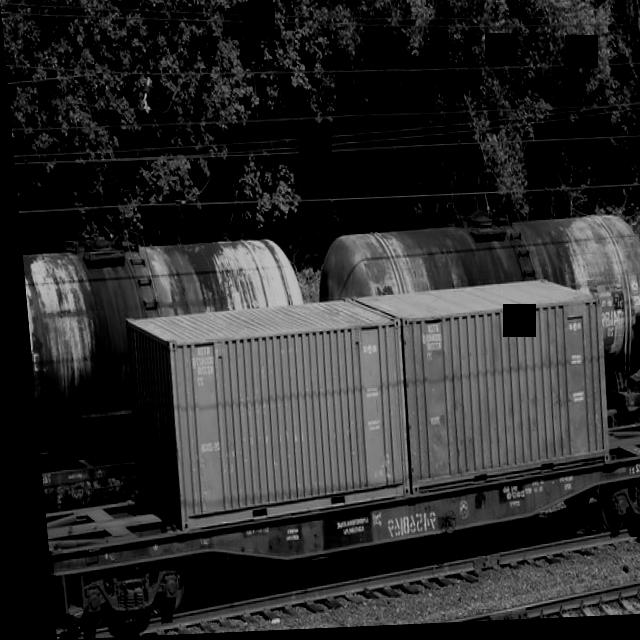container: (111, 292, 408, 541), (388, 274, 609, 497)
flatcar: (31, 420, 640, 640)
tank: (16, 215, 322, 504), (299, 200, 640, 424), (632, 209, 640, 400)
